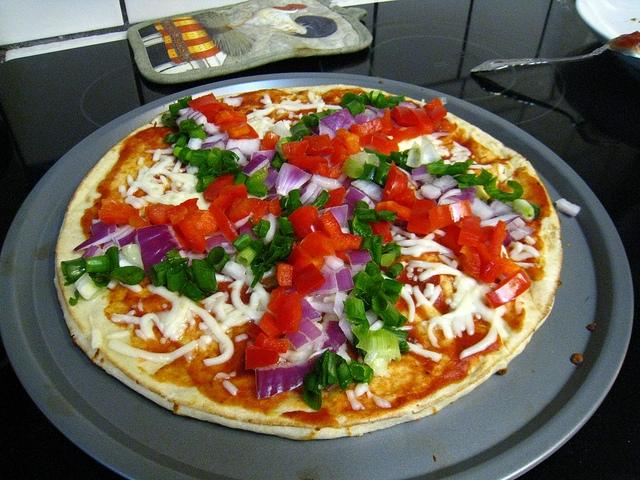onion: (256, 346, 334, 399), (138, 224, 182, 275), (284, 316, 324, 352), (318, 108, 358, 140), (275, 163, 311, 198), (73, 224, 117, 252), (314, 320, 348, 354), (226, 138, 262, 161), (317, 204, 348, 229), (351, 179, 384, 202), (308, 271, 338, 296), (310, 173, 348, 191), (344, 188, 376, 209), (480, 212, 522, 228), (469, 197, 496, 221), (241, 154, 270, 176), (206, 234, 237, 254), (348, 249, 372, 271), (300, 298, 322, 322), (306, 296, 335, 314), (334, 268, 355, 292), (432, 175, 458, 194), (555, 198, 581, 217), (114, 227, 137, 247), (334, 292, 351, 319), (438, 188, 462, 206), (202, 130, 230, 145), (300, 183, 318, 204), (490, 200, 513, 216), (354, 108, 377, 124), (510, 226, 536, 240), (228, 148, 248, 166), (421, 182, 442, 199), (250, 150, 276, 162), (200, 138, 226, 150), (90, 222, 112, 236), (80, 244, 102, 258), (261, 172, 278, 190), (440, 196, 474, 205), (412, 166, 432, 180), (416, 174, 436, 188), (324, 256, 344, 270), (240, 226, 258, 240), (202, 122, 221, 134), (187, 138, 203, 150), (460, 186, 477, 197), (288, 354, 308, 362), (195, 114, 208, 126), (512, 217, 526, 228), (322, 314, 340, 322), (323, 292, 336, 302), (177, 108, 190, 116), (302, 344, 312, 354), (192, 112, 203, 121)
tomato: (476, 220, 524, 284), (318, 210, 362, 252), (486, 270, 531, 308), (428, 199, 473, 233), (288, 206, 324, 241), (214, 184, 248, 220), (228, 198, 270, 227), (208, 203, 239, 242), (275, 291, 302, 335), (292, 262, 326, 296), (406, 198, 436, 236), (433, 220, 463, 258), (381, 160, 408, 202), (100, 199, 140, 225), (358, 132, 399, 156), (299, 230, 335, 257), (178, 221, 207, 254), (203, 174, 235, 202), (246, 344, 280, 370), (253, 331, 289, 354), (374, 200, 412, 221), (190, 210, 220, 236), (457, 216, 482, 246), (287, 246, 312, 276), (350, 117, 384, 139), (302, 134, 334, 156), (145, 202, 176, 224), (460, 246, 480, 279), (366, 220, 393, 244), (409, 108, 433, 134), (259, 312, 282, 338), (226, 122, 259, 140), (387, 126, 421, 143), (187, 92, 219, 110), (212, 110, 248, 126), (422, 98, 448, 120), (288, 156, 328, 170), (391, 106, 416, 128), (381, 107, 401, 134), (324, 186, 346, 209), (281, 140, 309, 158), (166, 205, 188, 225), (395, 188, 415, 209), (344, 132, 362, 155), (330, 146, 350, 166), (276, 264, 294, 286), (128, 214, 150, 231), (261, 131, 280, 150), (246, 323, 264, 340), (309, 163, 329, 177), (220, 120, 240, 134), (269, 197, 281, 216), (331, 136, 347, 150), (197, 103, 220, 112)
